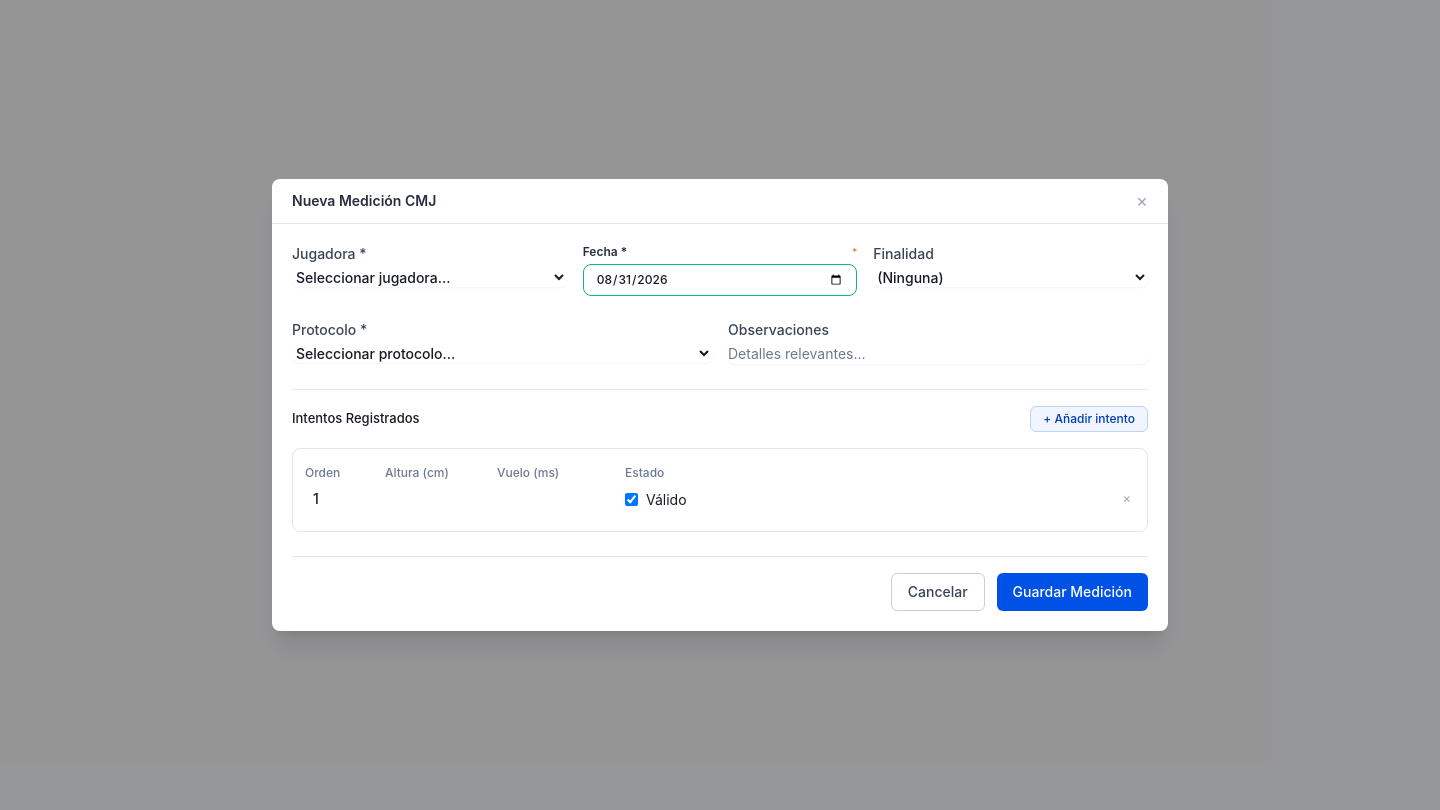
Scenario: CMJFormModal › 6. Intento válido sin altura ni tiempo de vuelo no guarda
Select "Jugadora 1" in the dropdown below "Jugadora *": (429, 278) [292, 268, 567, 287]
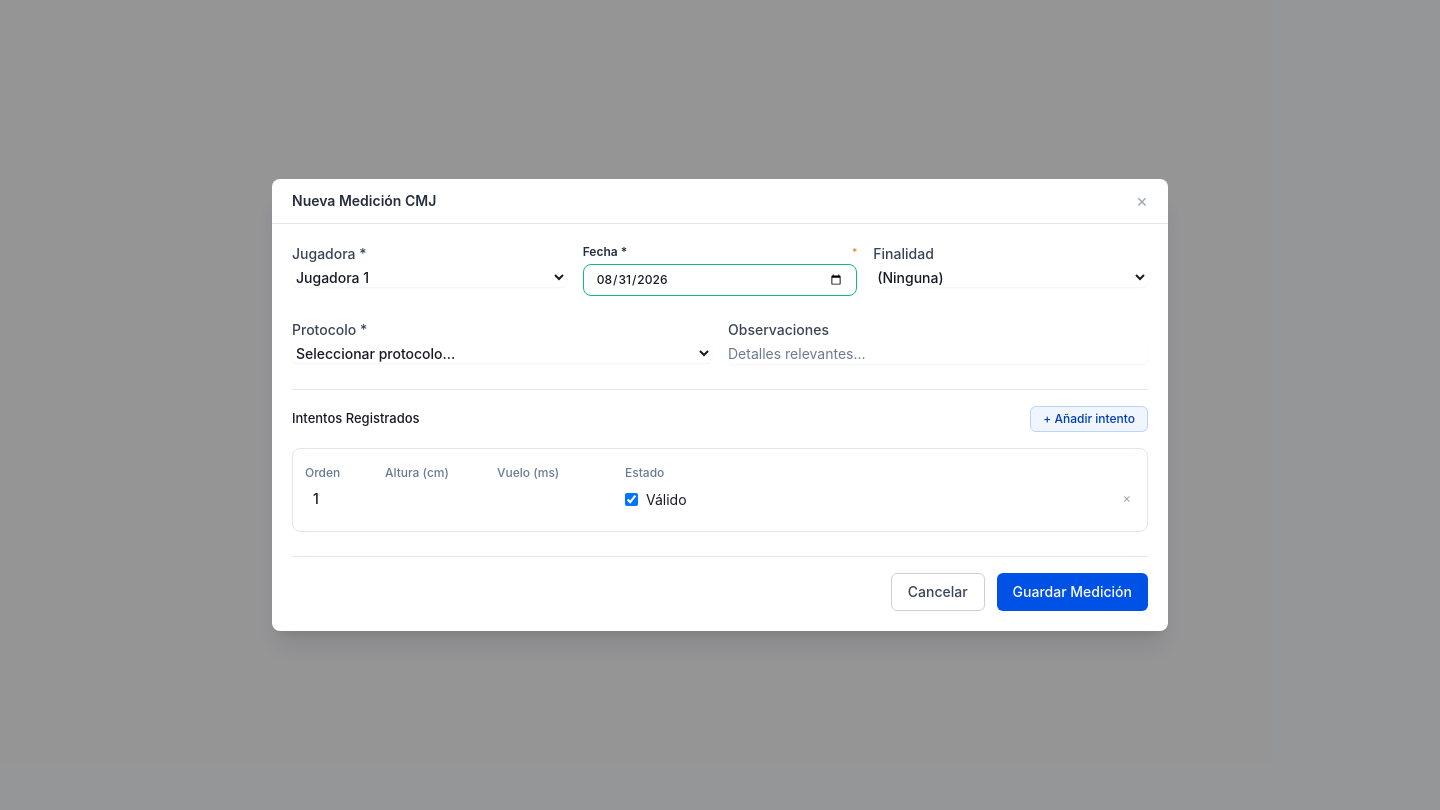
In the date field labelled "Fecha * *": (720, 280) [583, 264, 857, 296], type "2026-07-21"
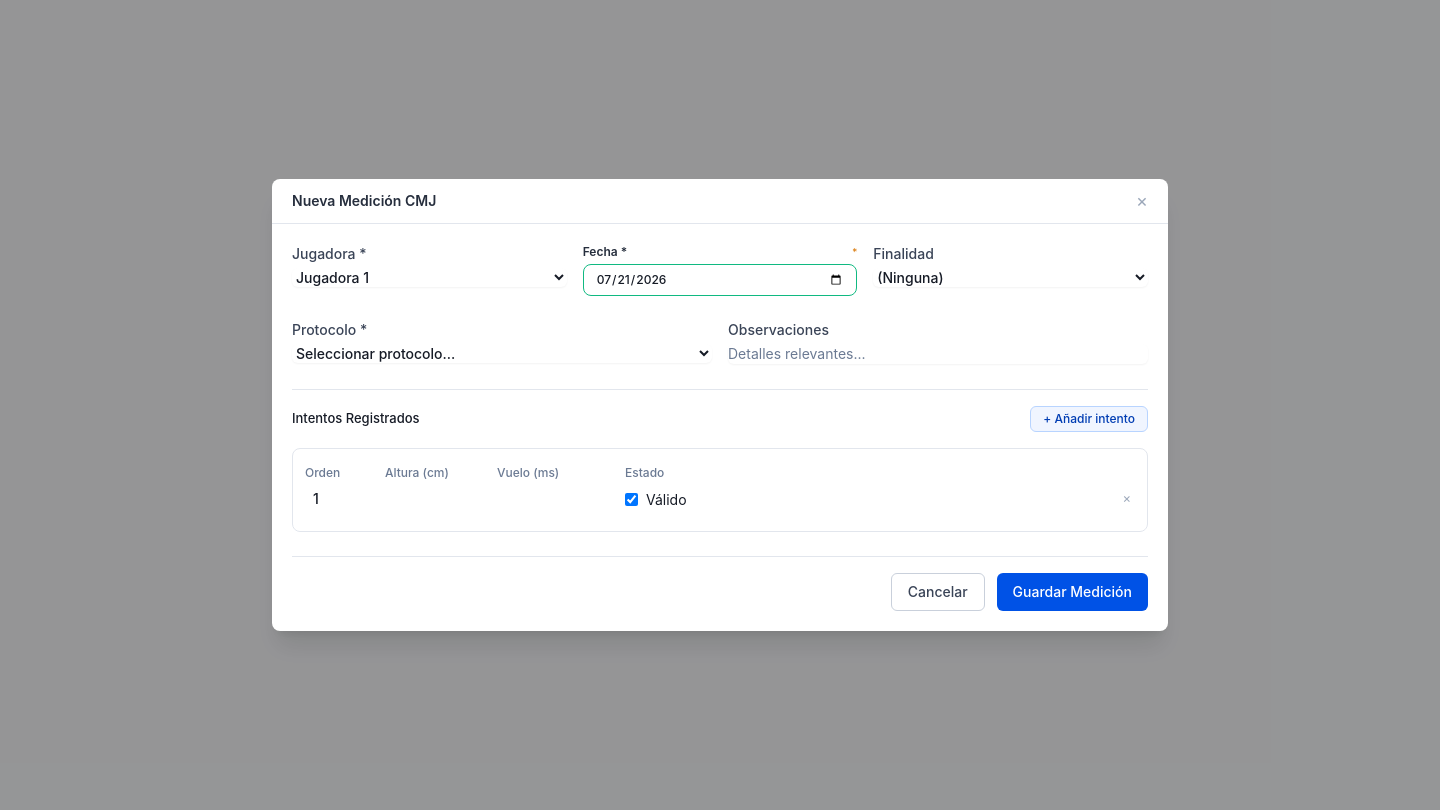
Select "Prot 1" in the dropdown below "Protocolo *": (502, 354) [292, 344, 712, 363]
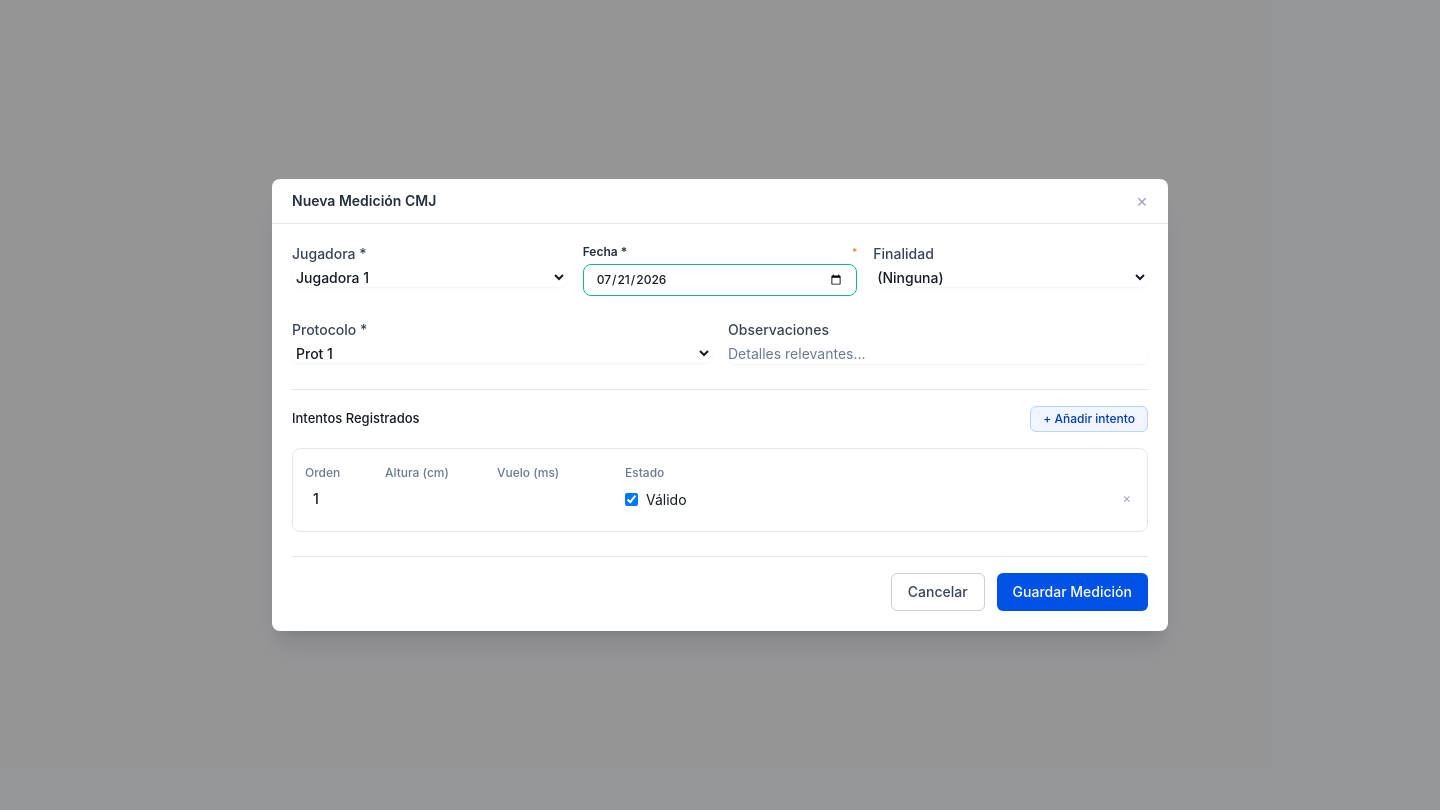
// No metemos ni altura ni vuelo
Click the button "Guardar Medición": (1072, 592) [997, 573, 1148, 611]
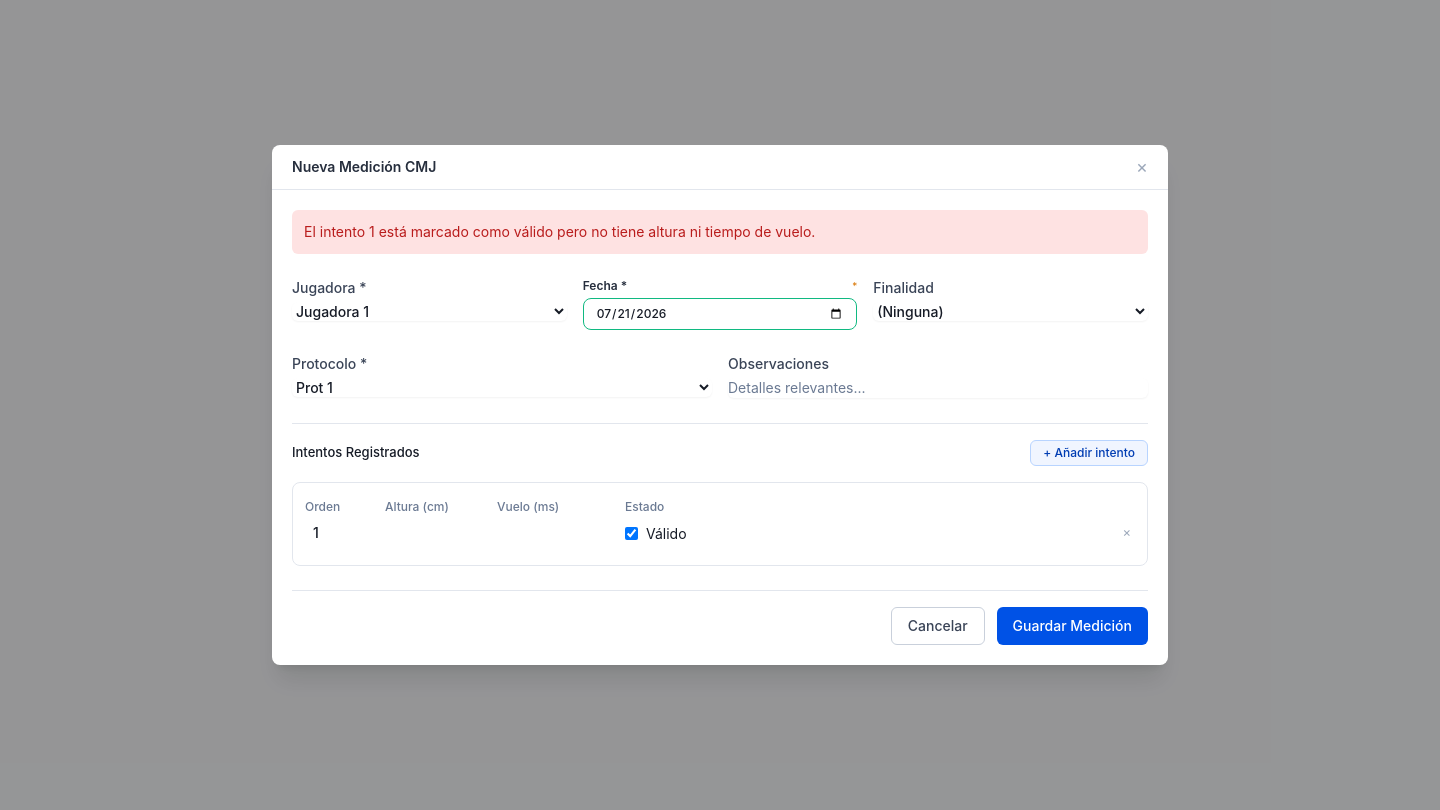
Now the text "está marcado como válido pero no tiene altura ni tiempo de vuelo" is shown, box [304, 223, 815, 240]
